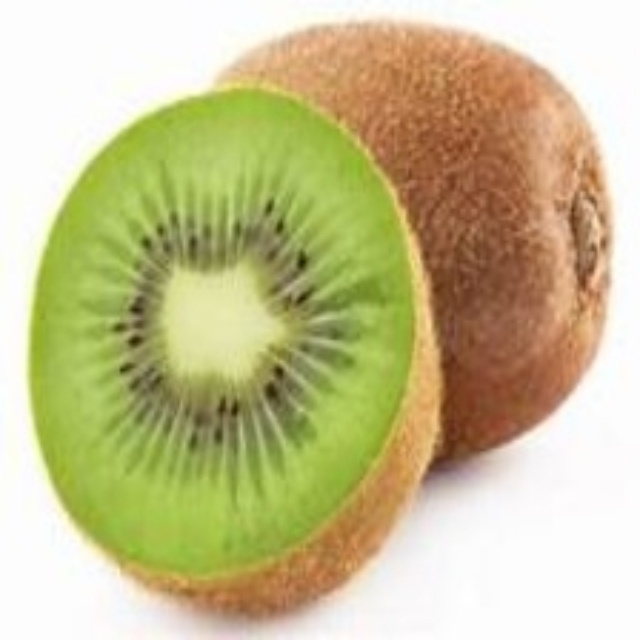kiwi: (28, 91, 439, 621), (217, 23, 612, 470)
